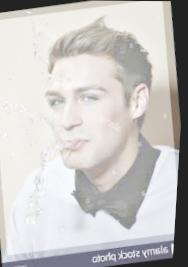spitting: (0, 0, 187, 257)
